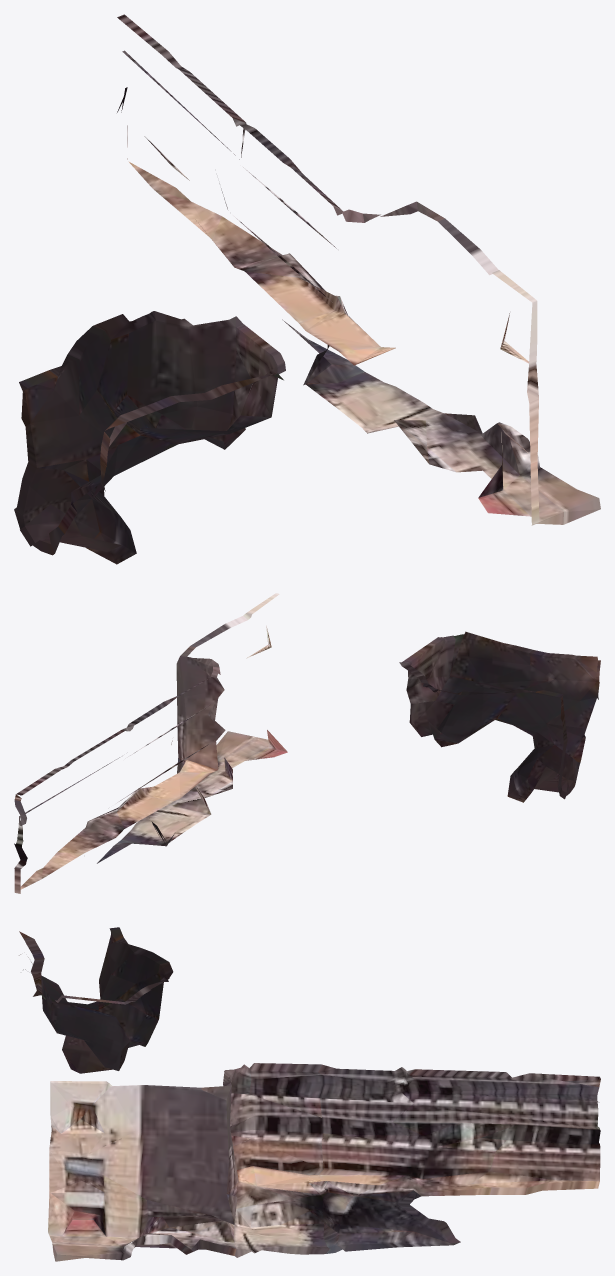
The picture shows the model from 3 angles, top to bottom: view 1: azimuth 30°, elevation 25°; view 2: azimuth 150°, elevation 25°; view 3: azimuth 270°, elevation 25°; orthographic projection. The views are drawn at different scales.
Parts seen in each view (by area): view 1: Mesh_0; view 2: Mesh_0; view 3: Mesh_0.
Part boxes in pixels (left/top/right/bottom): Mesh_0: left=14, top=14, right=600, bottom=564; Mesh_0: left=14, top=593, right=600, bottom=893; Mesh_0: left=19, top=927, right=600, bottom=1261.
Bounding box in the file's own units: 29.91 × 12.61 × 41.06.
Materials: 1 (1 with a texture image).
